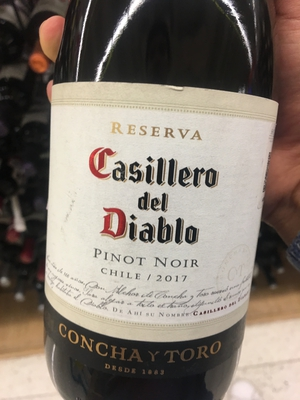casillero del diablo pinot noir: (46, 10, 280, 400)
